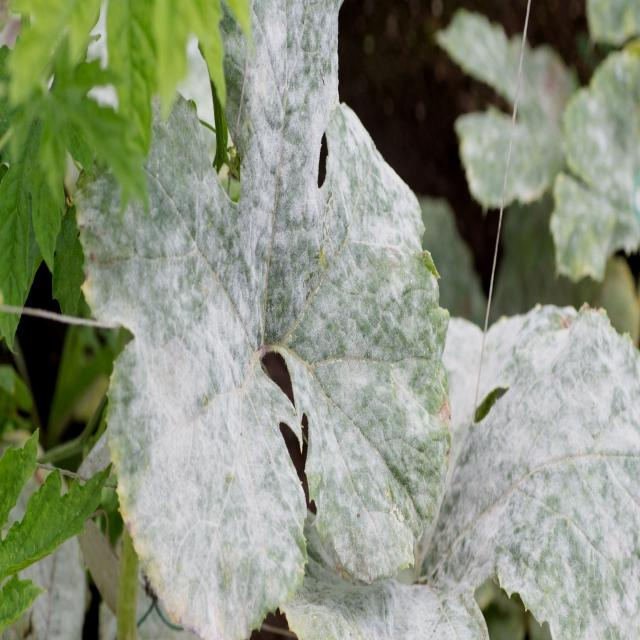Powdery Mildew: (72, 0, 453, 638), (417, 300, 639, 637)
